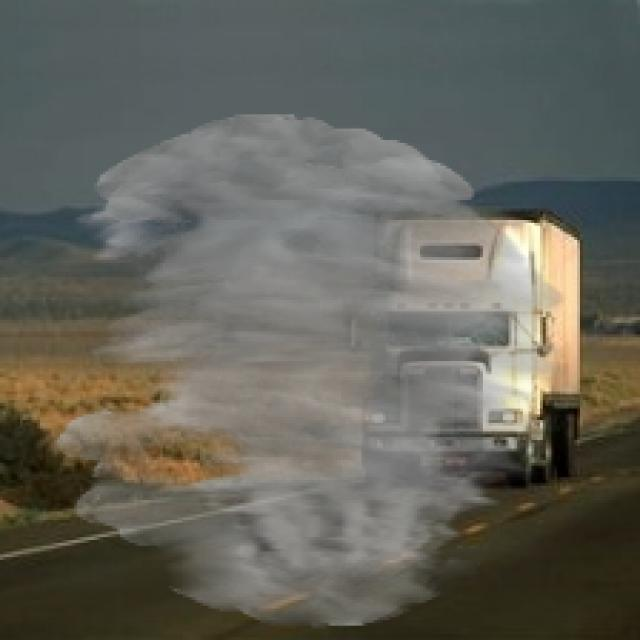smoke: (54, 114, 569, 629)
